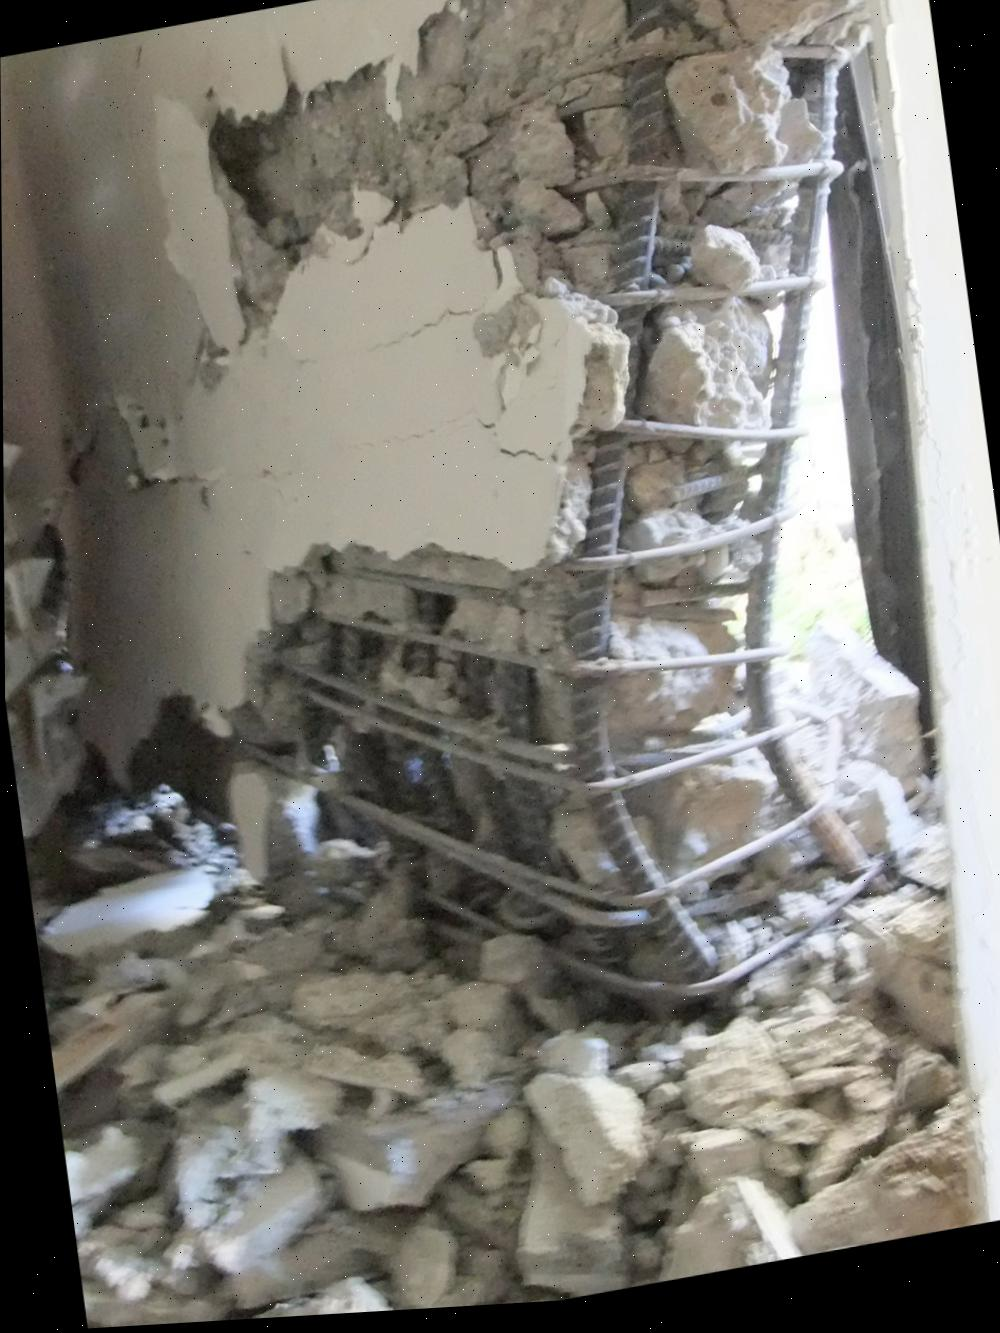exposed_rebar: (306, 0, 839, 996), (745, 509, 881, 913), (757, 60, 839, 508)
spalling: (126, 0, 887, 1013)
